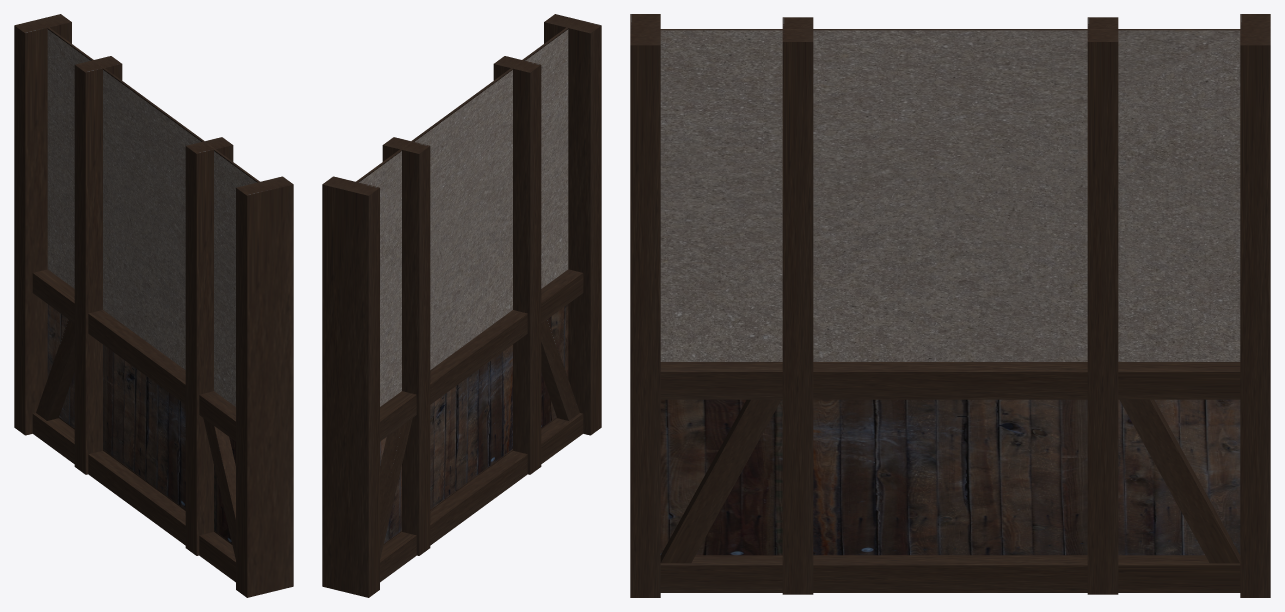
Rendered from OutdoorArchitecture_BasicWall01_BothEdges_BShortt.fbx.
The picture shows the model from 3 angles, left to right: view 1: azimuth 30°, elevation 25°; view 2: azimuth 150°, elevation 25°; view 3: azimuth 270°, elevation 25°; orthographic projection. The views are drawn at different scales.
Visible parts, largest first — view 1: OutdoorArchitecture_BasicWall01_BothEdges_BShortt; view 2: OutdoorArchitecture_BasicWall01_BothEdges_BShortt; view 3: OutdoorArchitecture_BasicWall01_BothEdges_BShortt.
Part boxes in pixels (bbox=[...]): OutdoorArchitecture_BasicWall01_BothEdges_BShortt: bbox=[14, 14, 293, 597]; OutdoorArchitecture_BasicWall01_BothEdges_BShortt: bbox=[322, 14, 601, 597]; OutdoorArchitecture_BasicWall01_BothEdges_BShortt: bbox=[630, 14, 1270, 597].
Bounding box in the file's own units: 36.37 × 300 × 315.
